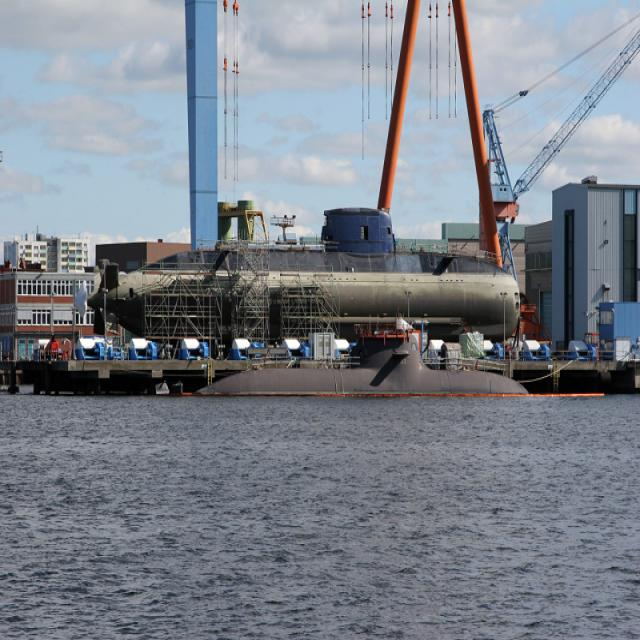submarine: (86, 209, 526, 331), (158, 336, 536, 394)
